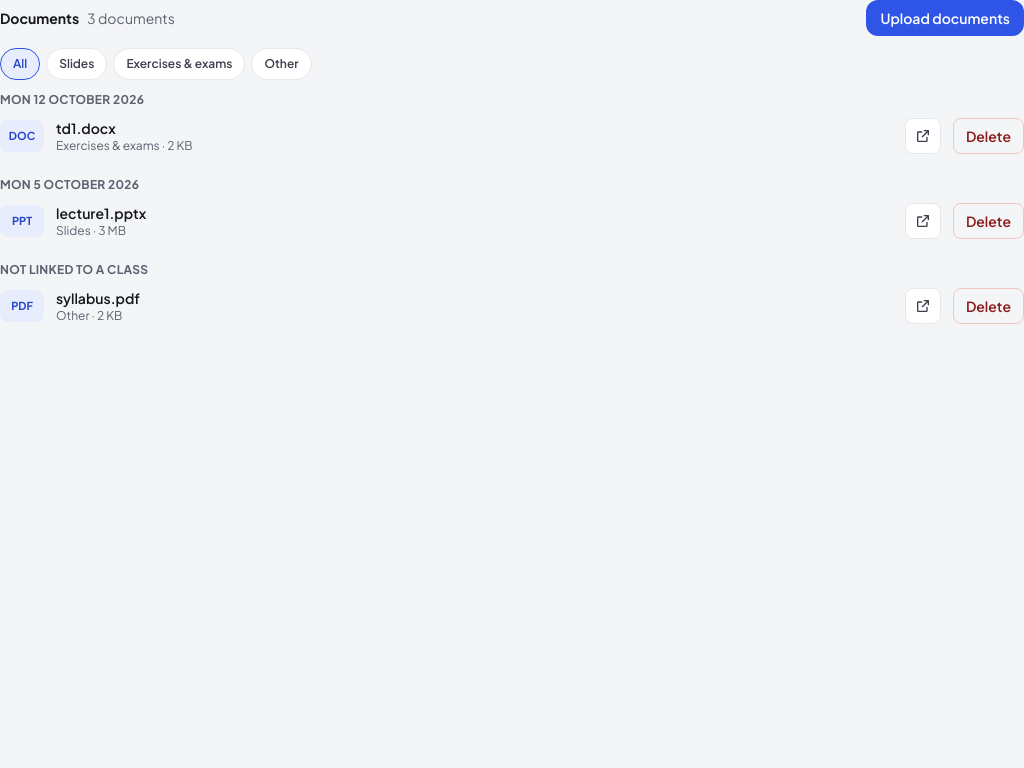
Test: DocumentsSection › asks before deleting and sends nothing on cancel
Click the button with aria-label "Delete syllabus.pdf" at (988, 306), box [953,288,1023,324]
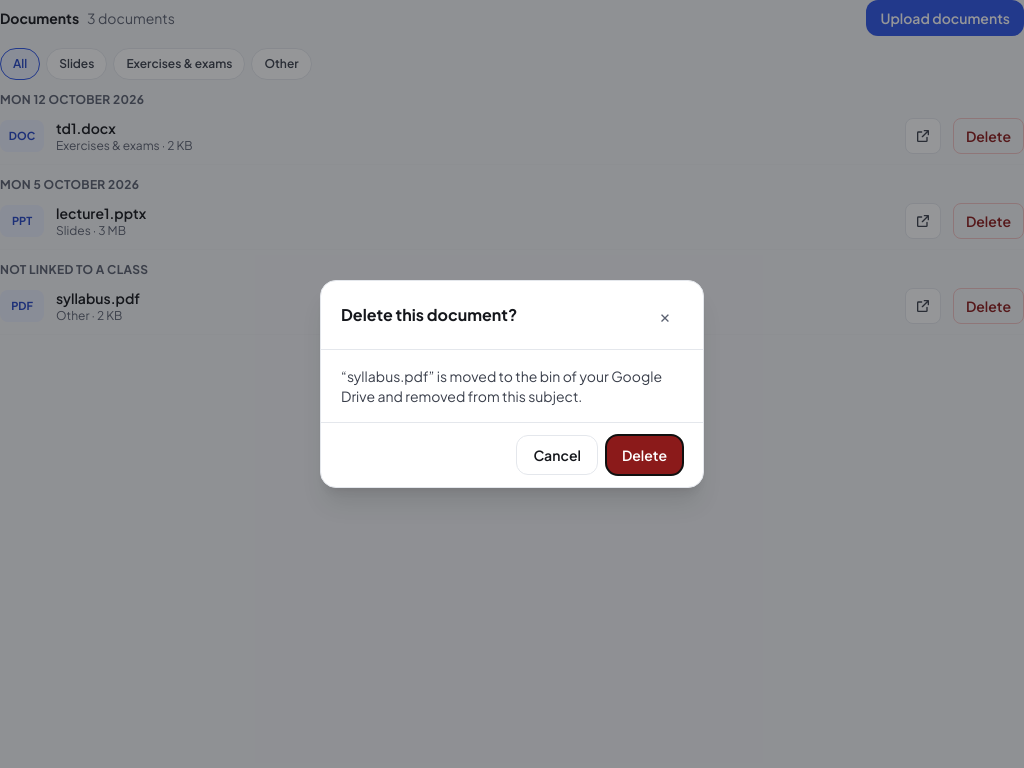
Click the button "Cancel" at (557, 455), box [516,435,598,475]
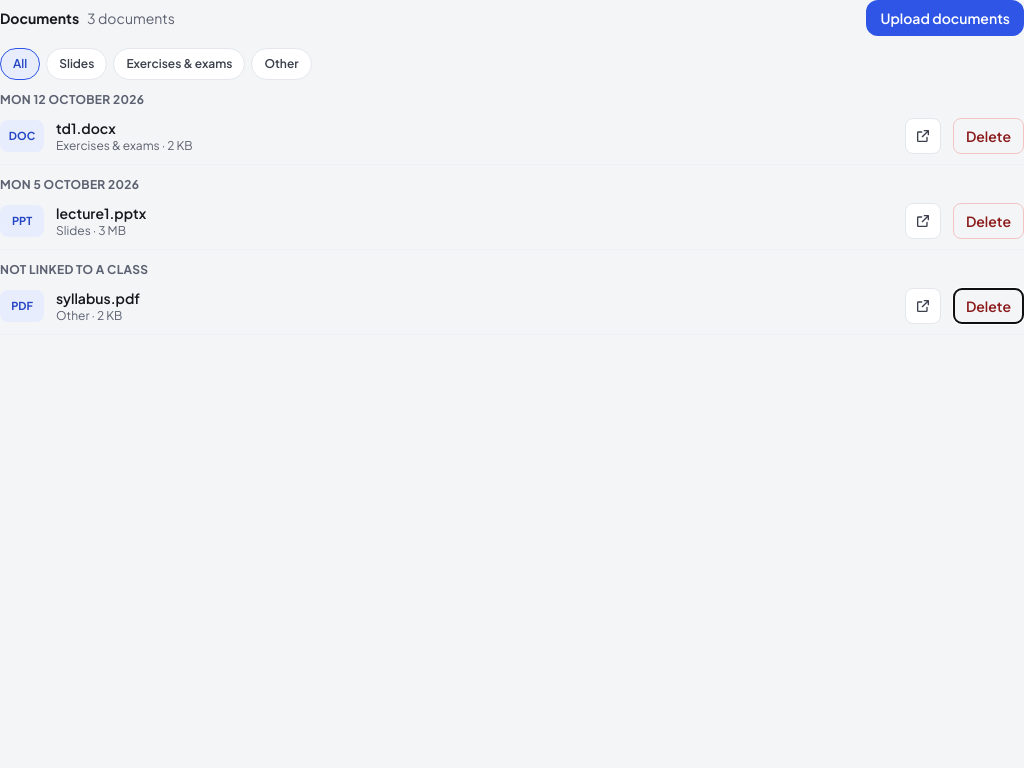
Expected: the dialog is gone
Click the button with aria-label "Delete syllabus.pdf" at (988, 306), box [953,288,1023,324]
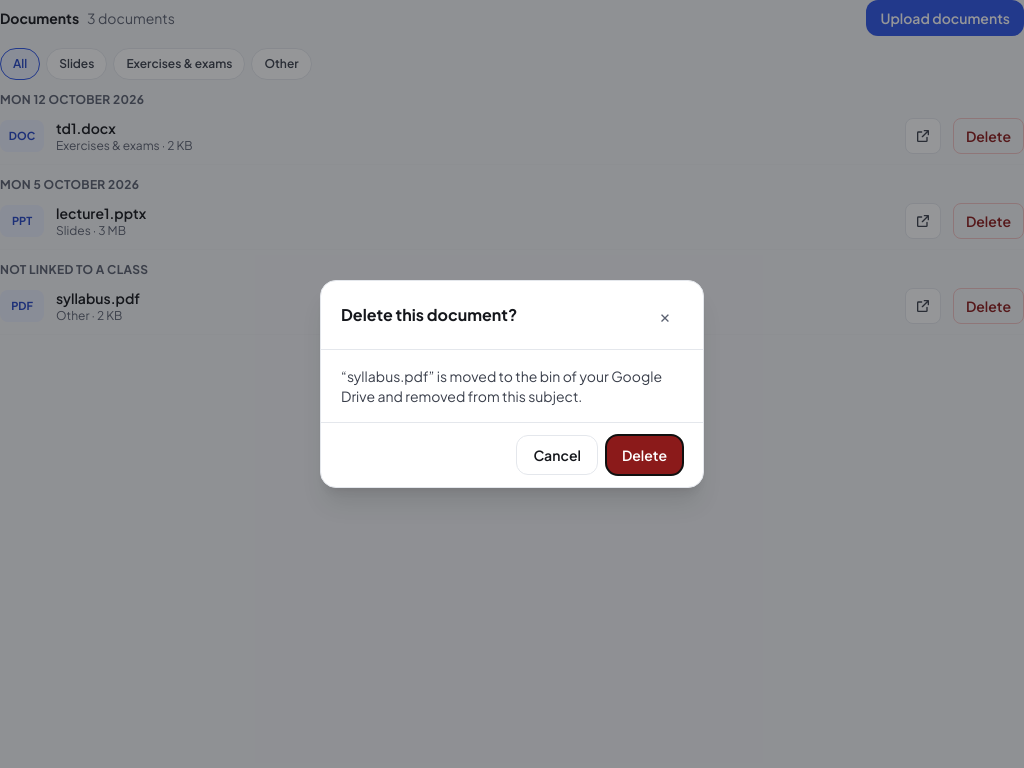
Click the button "Delete" at (644, 455), box [606,435,683,475]
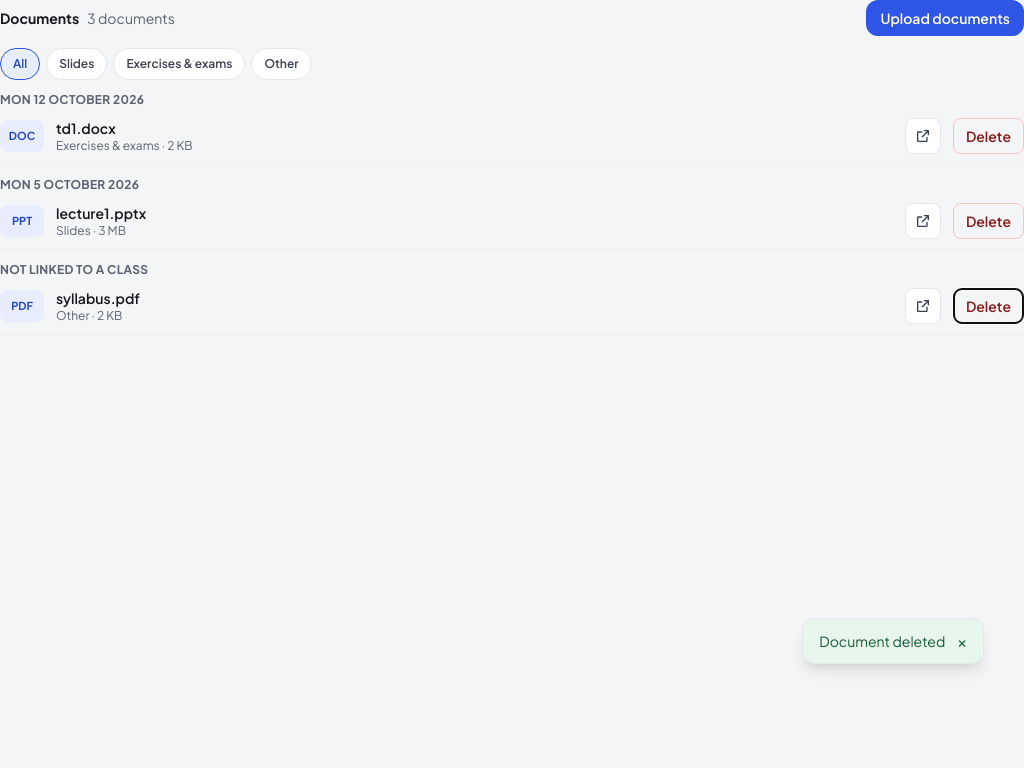
Expected: the text "Document deleted" is shown, [819,631,945,651]
